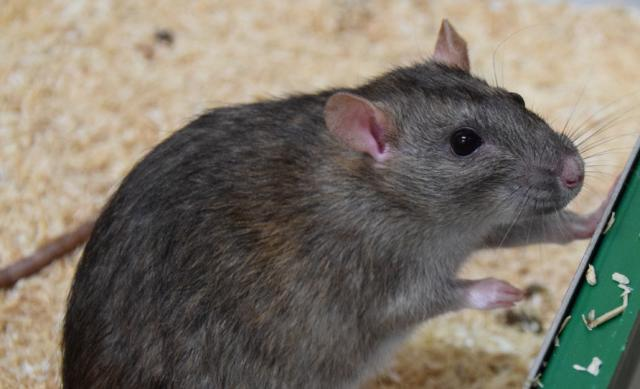rat: (113, 14, 601, 318)
